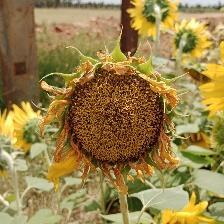sunflower: (31, 24, 199, 194)
